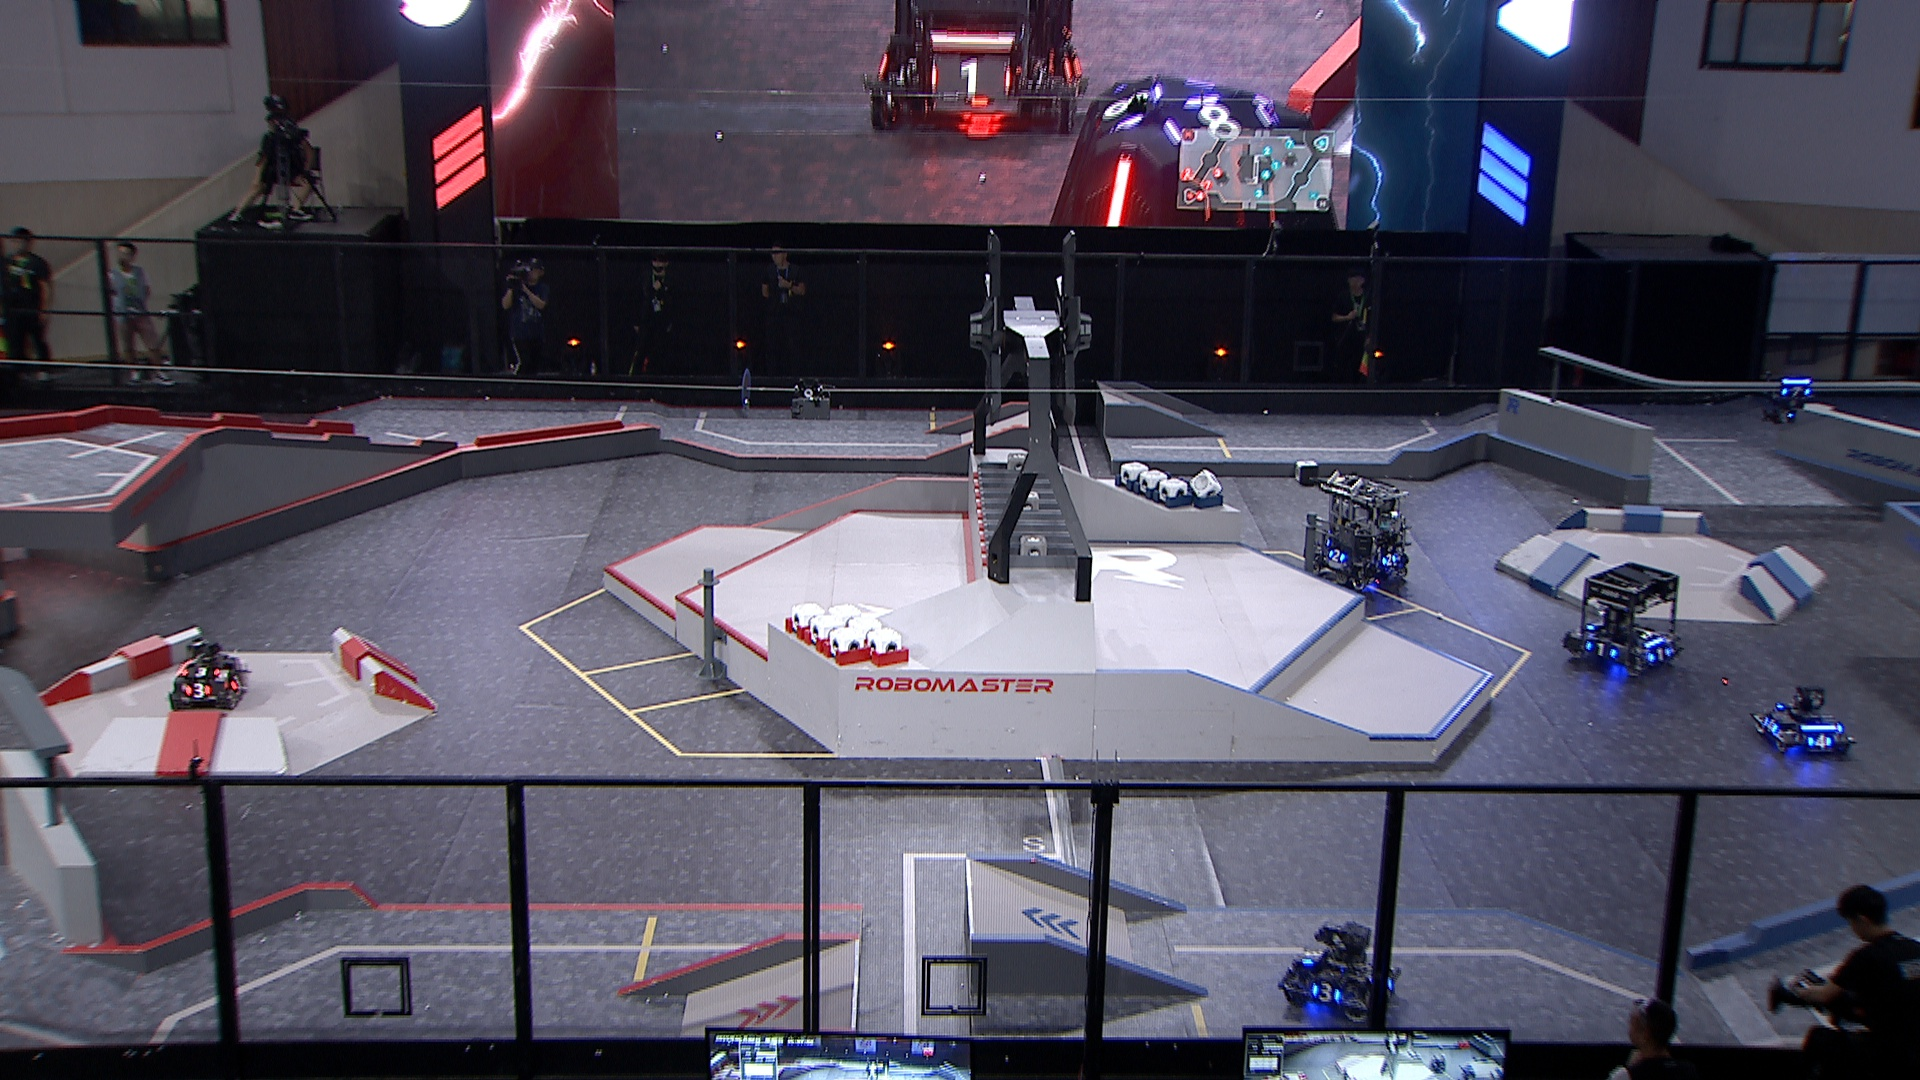armor: (1309, 982, 1342, 1007), (1585, 641, 1619, 659), (179, 665, 219, 679), (1808, 733, 1836, 752), (183, 680, 211, 699), (1779, 385, 1812, 400), (1300, 945, 1323, 967), (1646, 646, 1673, 662), (1760, 716, 1780, 733), (1378, 551, 1396, 568), (1327, 549, 1346, 564), (229, 674, 245, 694)
car: (1561, 562, 1685, 679), (1276, 920, 1400, 1029), (1302, 471, 1411, 589), (1747, 684, 1859, 760), (164, 641, 248, 708)
ignore: (1043, 74, 1342, 229), (864, 0, 1088, 138)
watcher: (1760, 373, 1813, 425)
